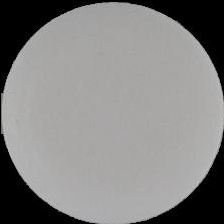68462-657: (0, 0, 224, 224)
